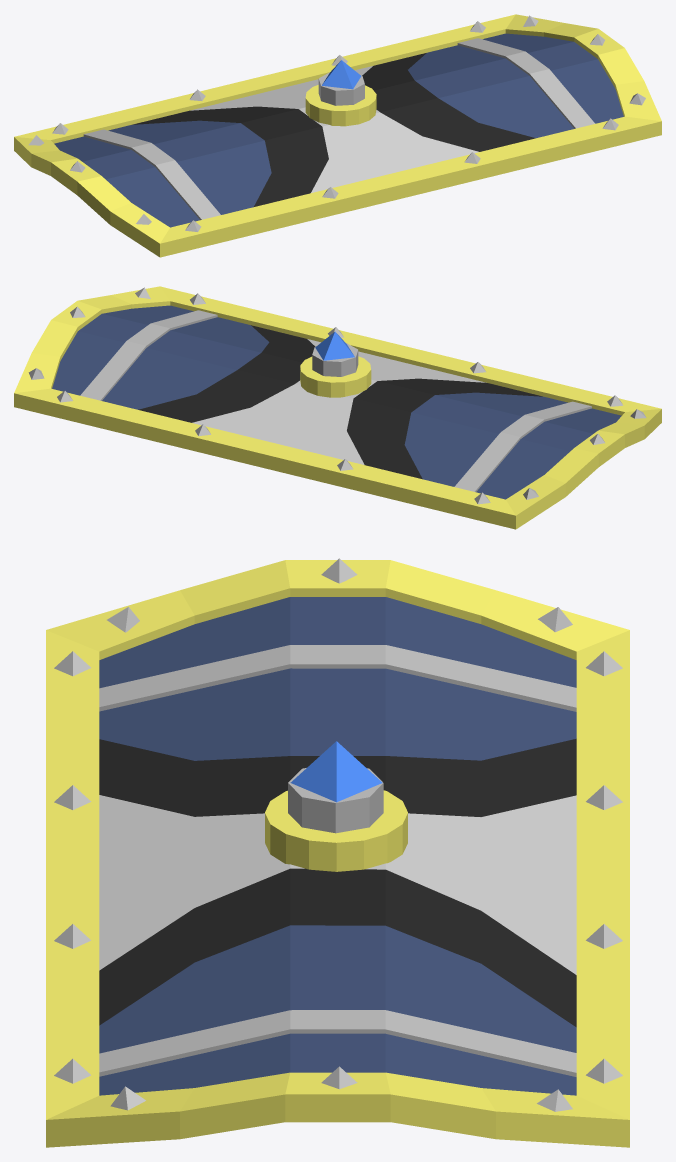
File: Shield_2_e_bl.fbx
The picture shows the model from 3 angles, top to bottom: view 1: azimuth 30°, elevation 25°; view 2: azimuth 150°, elevation 25°; view 3: azimuth 270°, elevation 25°; orthographic projection. The views are drawn at different scales.
Visible parts, largest first — view 1: Plane.175, Plane.187, Plane.171, Plane.170, Plane.173, Plane.174, Circle.315, Cone.379, Circle.316, Cone.380; view 2: Plane.175, Plane.187, Plane.171, Plane.170, Plane.174, Plane.173, Circle.315, Cone.379, Circle.316, Cone.380; view 3: Plane.187, Plane.175, Plane.171, Plane.170, Plane.174, Plane.173, Circle.315, Cone.379, Circle.316, Cone.380.
Part boxes in pixels (box(x1,y1,x2,y2)): Plane.175: box(14, 14, 661, 257); Plane.187: box(54, 33, 623, 227); Plane.171: box(132, 53, 535, 206); Plane.170: box(190, 66, 478, 192); Plane.173: box(457, 38, 595, 128); Plane.174: box(83, 129, 220, 219); Circle.315: box(305, 85, 376, 126); Cone.379: box(28, 15, 645, 231); Circle.316: box(318, 72, 364, 105); Cone.380: box(322, 60, 361, 89); Plane.175: box(14, 286, 661, 529); Plane.187: box(52, 305, 621, 499); Plane.171: box(138, 325, 542, 479); Plane.170: box(192, 339, 486, 464); Plane.174: box(454, 401, 591, 492); Plane.173: box(80, 310, 217, 400); Circle.315: box(300, 356, 371, 397); Cone.379: box(28, 287, 646, 504); Circle.316: box(312, 343, 358, 376); Cone.380: box(315, 331, 354, 360); Plane.187: box(99, 597, 576, 1095); Plane.175: box(46, 560, 629, 1147); Plane.171: box(99, 738, 576, 1027); Plane.170: box(99, 795, 576, 974); Plane.174: box(99, 645, 576, 711); Plane.173: box(99, 1010, 576, 1076); Circle.315: box(265, 790, 407, 871); Cone.379: box(54, 558, 622, 1111); Circle.316: box(288, 768, 383, 833); Cone.380: box(290, 741, 382, 802).
Bounding box in the file's own units: 132 × 24.84 × 61.17.
